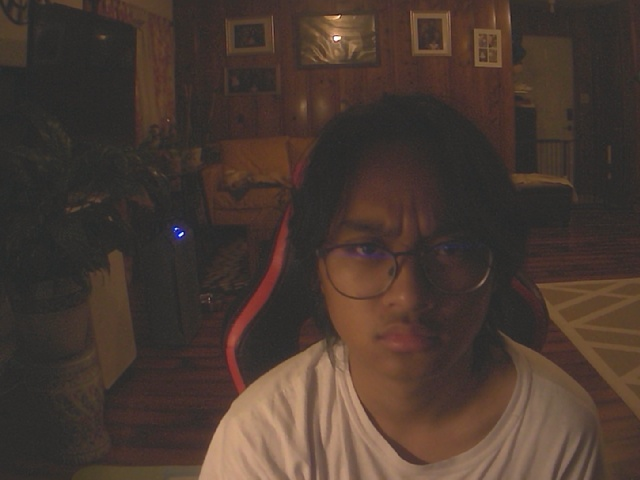anger: (290, 91, 529, 381)
